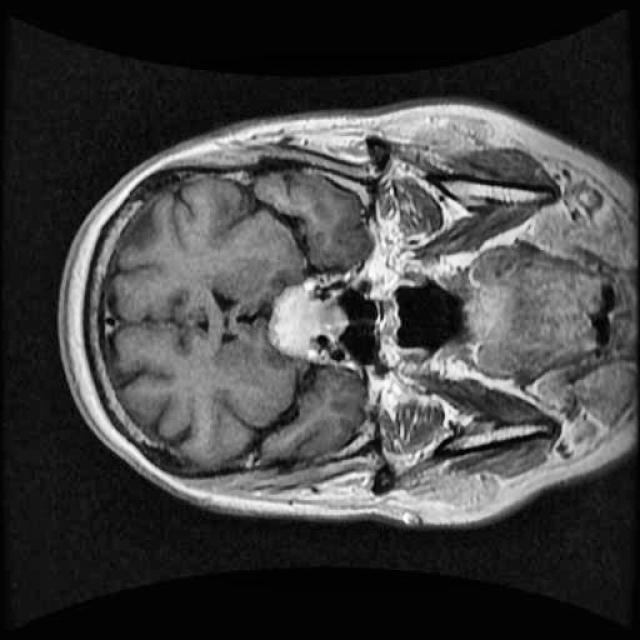Tumor: (261, 265, 365, 371)
